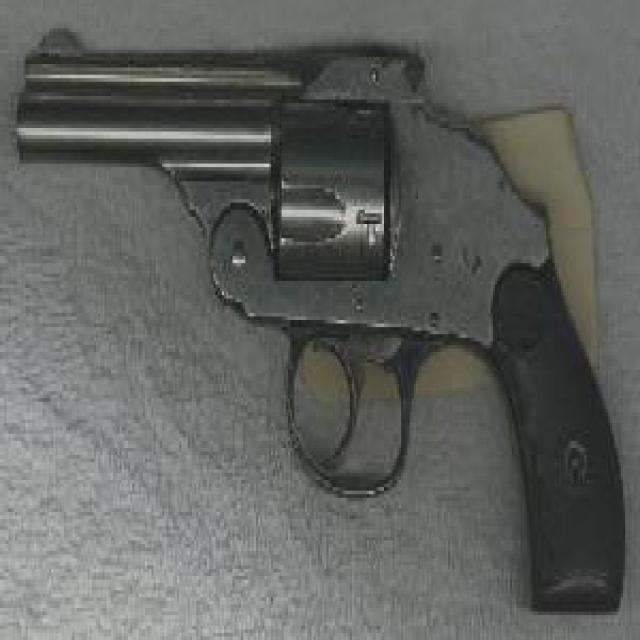pistol: (23, 25, 630, 611)
